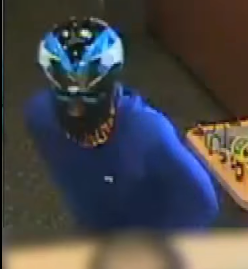helmet: (29, 5, 124, 91)
